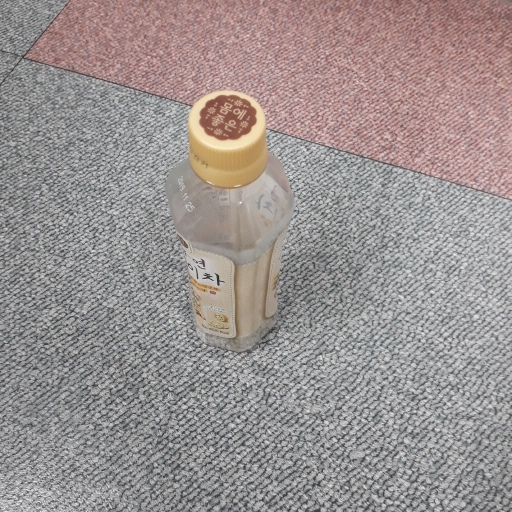Plastic_0: (166, 92, 293, 356)
